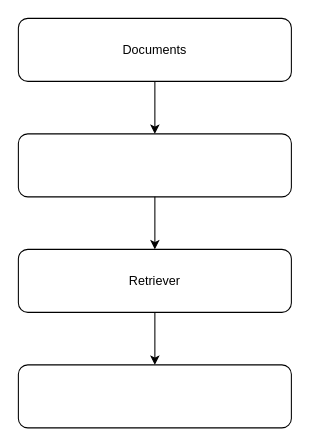
This 310x446 diagram has some shape labels left out. Each missing label, with the centre of its shape:
Indexer: (154,165)
RAG: (154,396)
